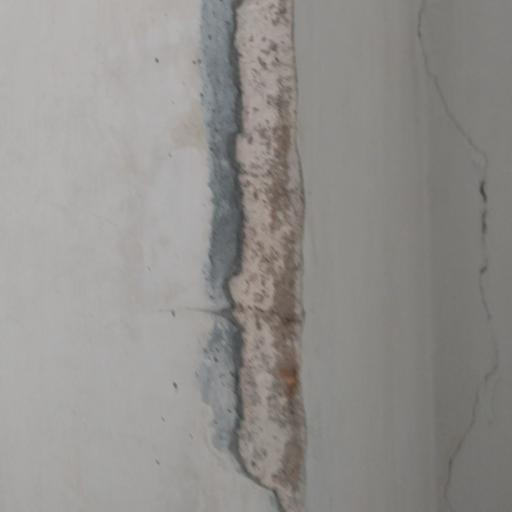peeling: (174, 0, 335, 512), (384, 0, 512, 512)
